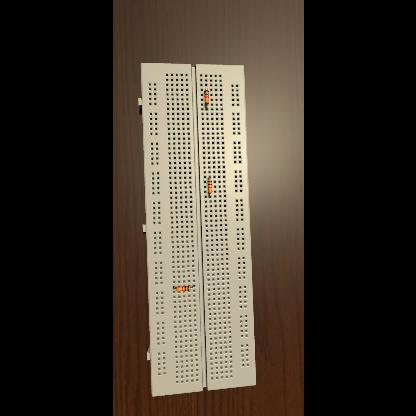breadboard: (138, 64, 256, 396)
resistor: (176, 286, 190, 292), (208, 180, 212, 194), (204, 90, 208, 104)
wire: (173, 286, 175, 290), (191, 286, 194, 288), (209, 194, 210, 198), (208, 177, 210, 179), (206, 88, 206, 88)
